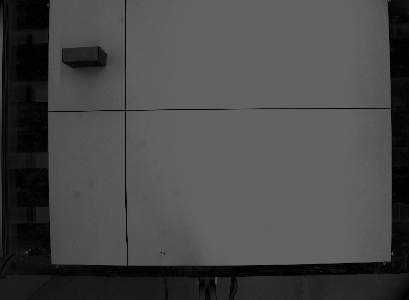b1: (60, 44, 109, 70)
